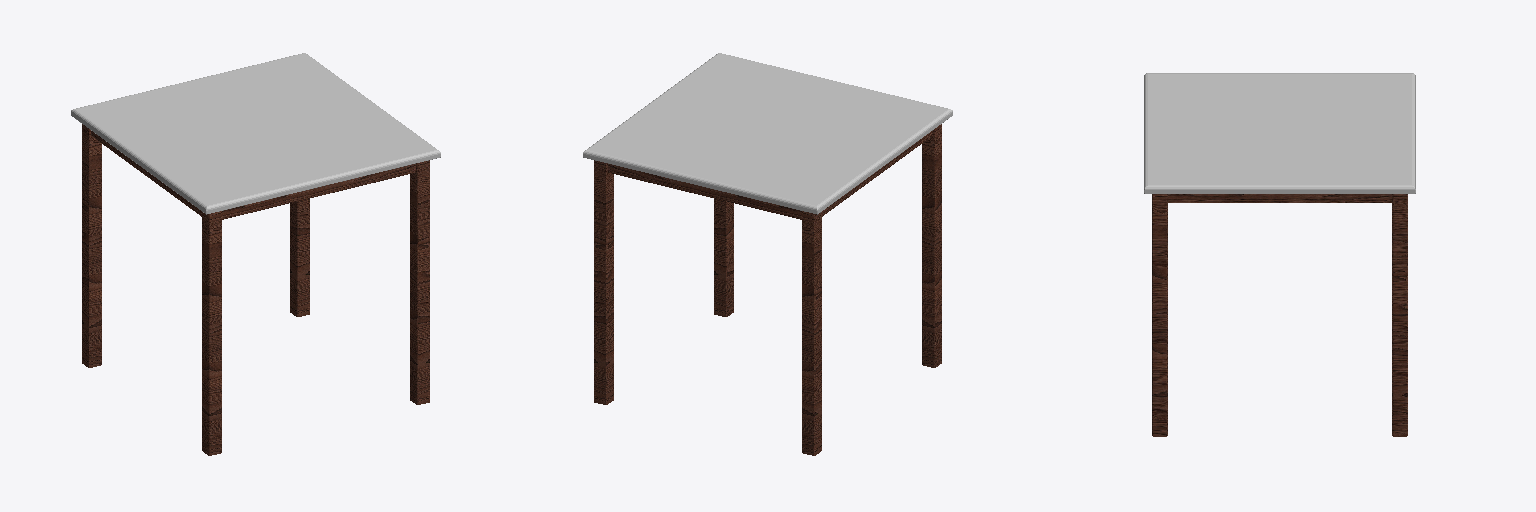
3 renders of one model, left to right at view 1: azimuth 30°, elevation 25°; view 2: azimuth 150°, elevation 25°; view 3: azimuth 270°, elevation 25°, orthographic.
Parts seen in each view (by area): view 1: Table.001; view 2: Table.001; view 3: Table.001.
Boxes of the visible parts, <box> form: Table.001: <box>71,53,440,455</box>; Table.001: <box>583,53,952,455</box>; Table.001: <box>1144,73,1415,436</box>.
Bounding box in the file's own units: 0.7 × 0.72 × 0.7.
2 materials, 1 textured.